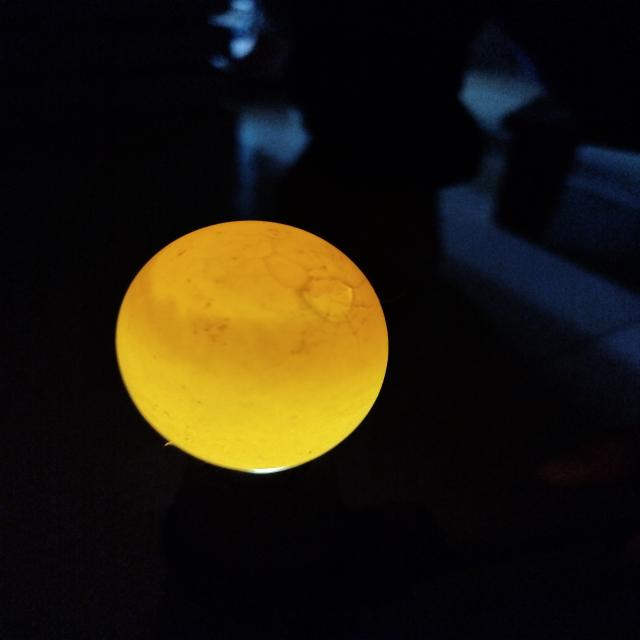Camara de Ar: (151, 221, 364, 319)
Rachadura: (264, 252, 367, 334)
